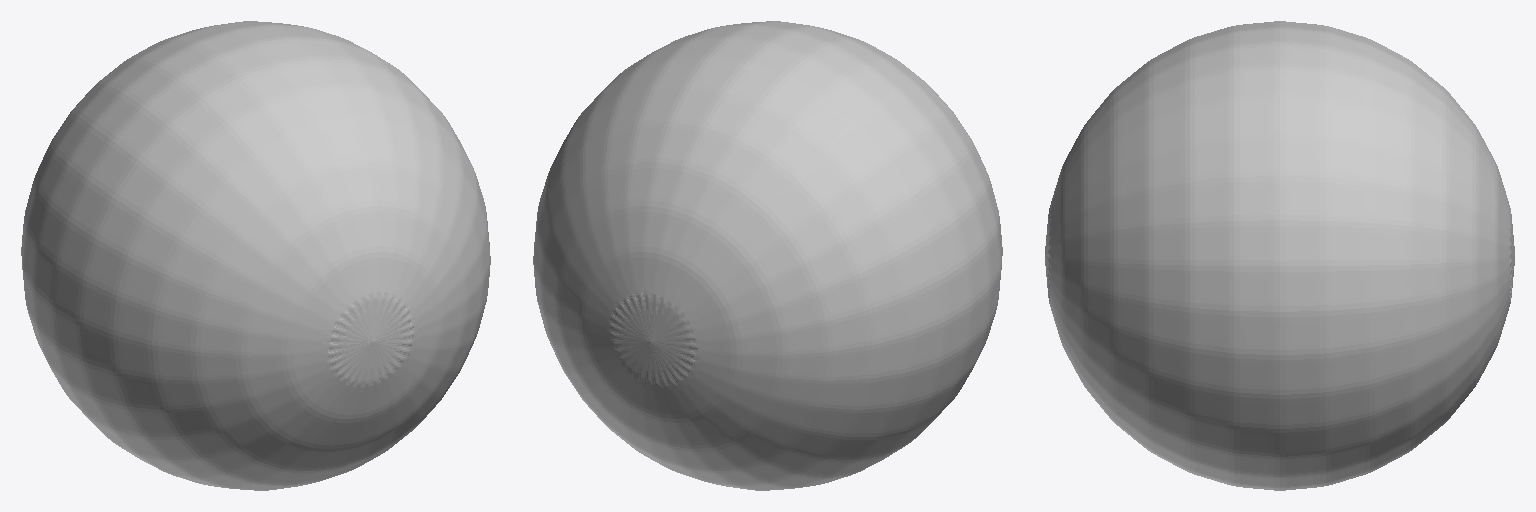
The model's file is uploads_files_2620010_Grass+and+Ground+Texture.obj.
3 renders of one model, left to right at view 1: azimuth 30°, elevation 25°; view 2: azimuth 150°, elevation 25°; view 3: azimuth 270°, elevation 25°, orthographic.
Parts seen in each view (by area): view 1: Sphere_Sphere.001; view 2: Sphere_Sphere.001; view 3: Sphere_Sphere.001.
Boxes of the visible parts, x1,y1,x2,y2 form: Sphere_Sphere.001: [21, 21, 490, 490]; Sphere_Sphere.001: [533, 21, 1002, 490]; Sphere_Sphere.001: [1045, 21, 1514, 490].
Size of the model in its own units: 1.99 by 1.99 by 1.99.